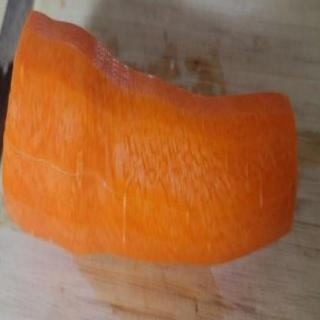carrot: (3, 8, 300, 274)
